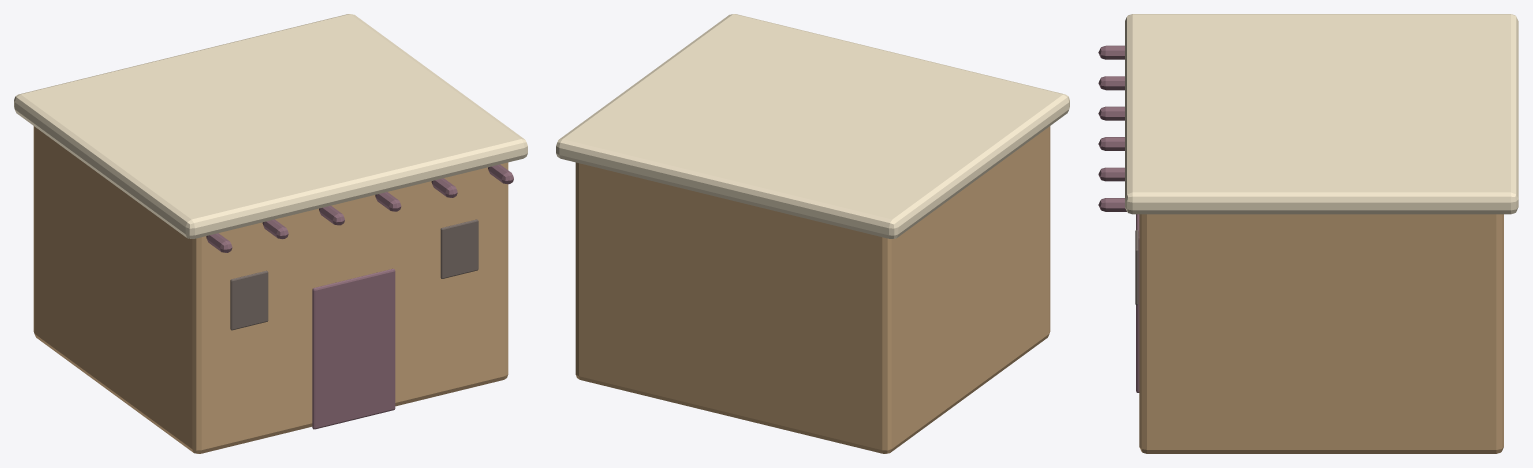
The model's file is house.glb.
The picture shows the model from 3 angles, left to right: view 1: azimuth 30°, elevation 25°; view 2: azimuth 150°, elevation 25°; view 3: azimuth 270°, elevation 25°; orthographic projection. The views are drawn at different scales.
Parts seen in each view (by area): view 1: Mudbrick house, Roof, Door, Window, Window.001; view 2: Mudbrick house, Roof; view 3: Mudbrick house, Roof, Door.
Part boxes in pixels (bbox=[...]): Mudbrick house: bbox=[33, 126, 508, 453]; Roof: bbox=[14, 14, 527, 238]; Door: bbox=[312, 268, 395, 429]; Window: bbox=[230, 270, 268, 330]; Window.001: bbox=[440, 219, 478, 278]; Mudbrick house: bbox=[575, 126, 1050, 453]; Roof: bbox=[556, 14, 1069, 238]; Mudbrick house: bbox=[1139, 214, 1503, 453]; Roof: bbox=[1125, 14, 1518, 214]; Door: bbox=[1136, 214, 1139, 392].
Bounding box in the file's own units: 4.55 × 3.09 × 4.37.
